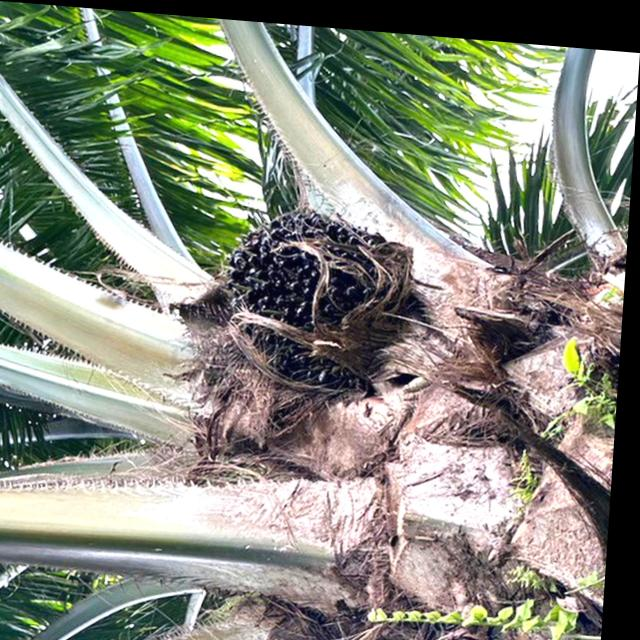unripe: (211, 185, 425, 414)
